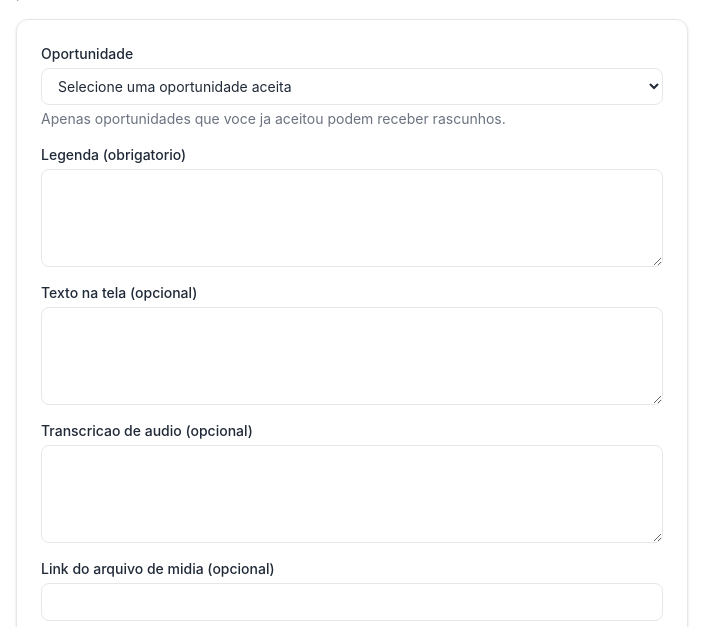
Test case: NewDraftPage - US-32a, US-32b › shows the version number and review deadline immediately on a successful submission
The image size is (705, 627).
Select "Acme Cosmeticos · instagram_reel" in the dropdown labelled "Oportunidade" at coordinates (352, 86), box x1=41 y1=68 x2=663 y2=105
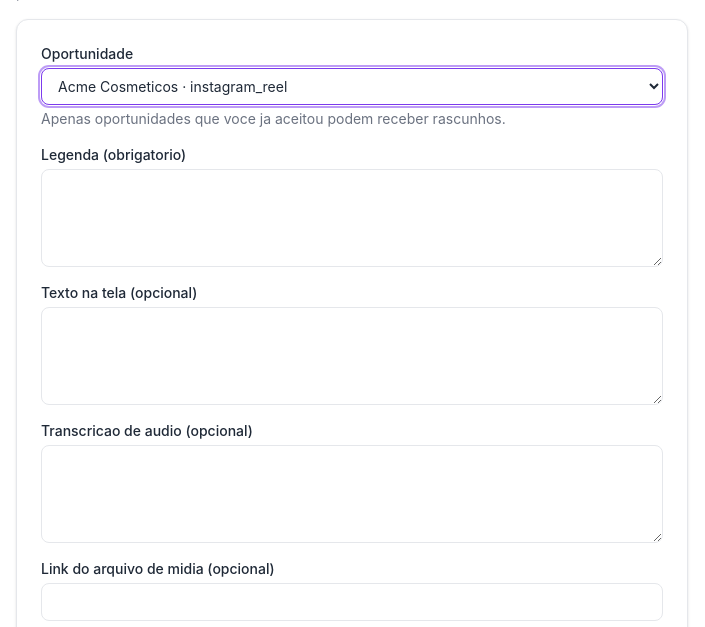
Type "Esse serum mudou minha pele em 14 dias!" into the text box labelled "Legenda (obrigatorio)" at coordinates (352, 218), box x1=41 y1=169 x2=663 y2=267
(page scrolled)
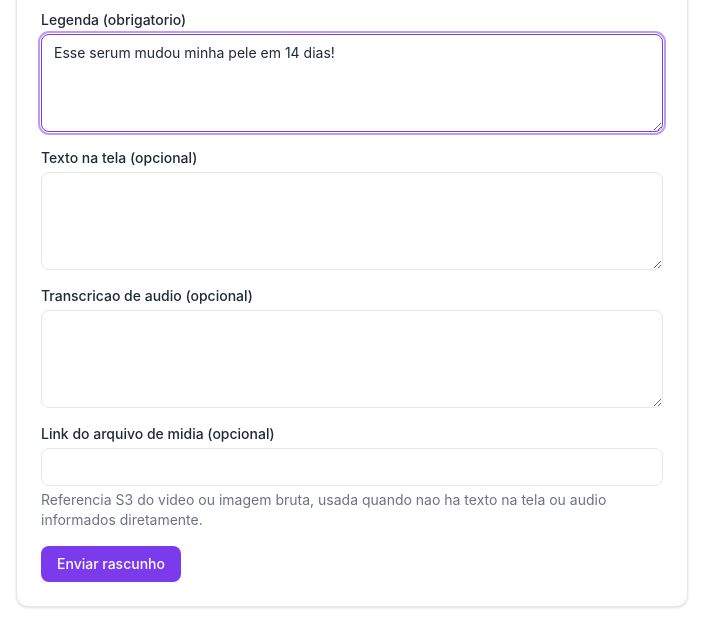
Click the button "Enviar rascunho" at coordinates (111, 564), box x1=41 y1=546 x2=181 y2=582
(page scrolled)
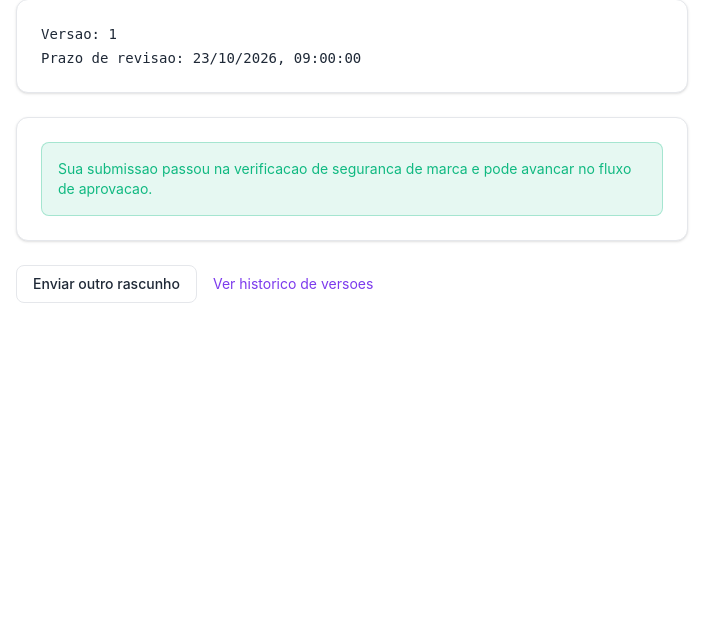
Check: the text "Versao: 1" is shown, box x1=41 y1=26 x2=117 y2=42
Check: the text "Prazo de revisao: 23/10/2026, 09:00:00" is shown, box x1=41 y1=50 x2=361 y2=66
